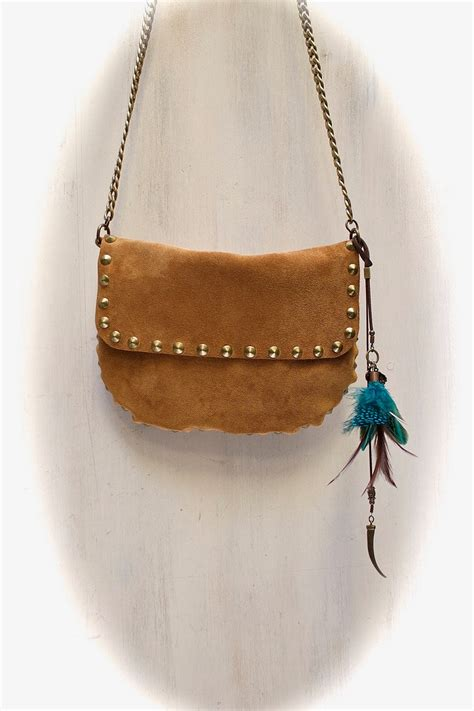gamuza: (96, 234, 363, 436)
